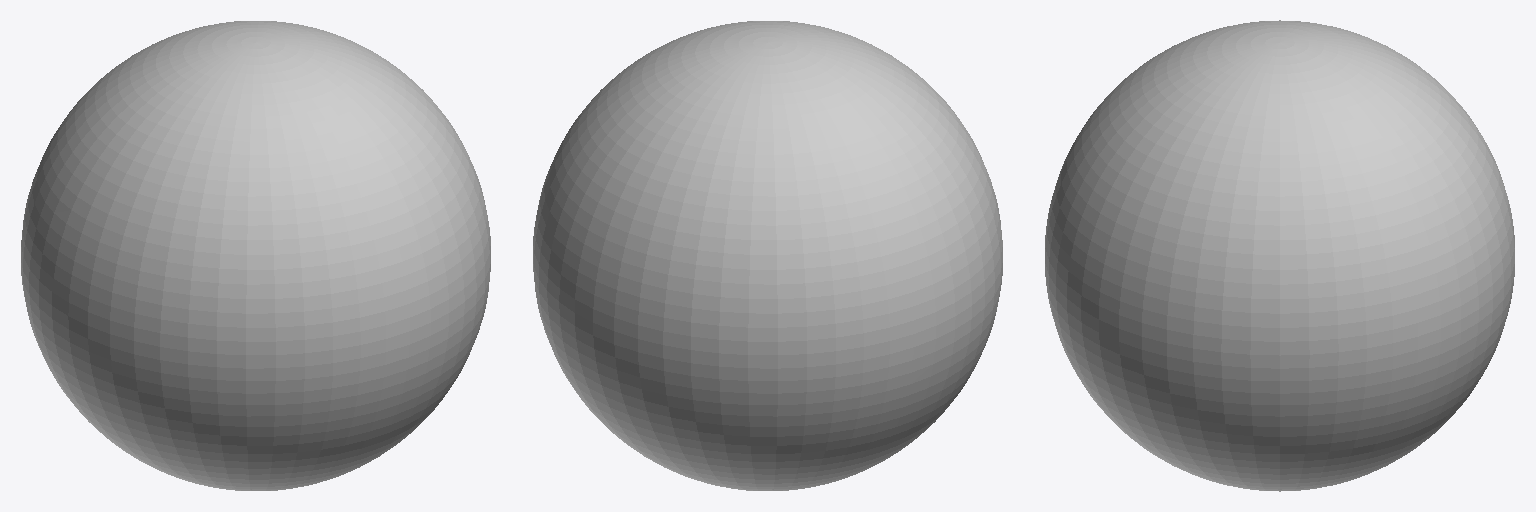
File: Venus.obj
3 renders of one model, left to right at view 1: azimuth 30°, elevation 25°; view 2: azimuth 150°, elevation 25°; view 3: azimuth 270°, elevation 25°, orthographic.
Visible parts, largest first — view 1: pSphere3; view 2: pSphere3; view 3: pSphere3.
Boxes of the visible parts, x1,y1,x2,y2 form: pSphere3: [21, 21, 490, 490]; pSphere3: [533, 21, 1002, 490]; pSphere3: [1045, 20, 1514, 491].
Bounding box in the file's own units: 2.04 × 2.04 × 2.04.